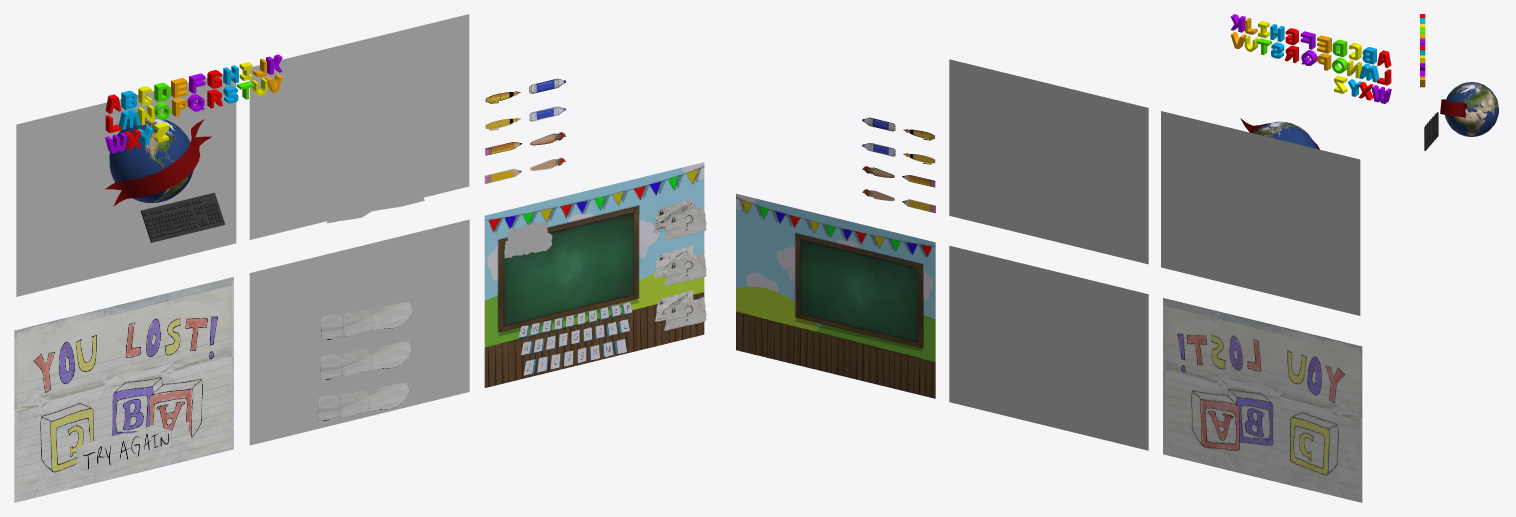
File: Game_Jam_3DAssests.fbx
3 views of the same model, side by side, from view 1: azimuth 30°, elevation 25°; view 2: azimuth 150°, elevation 25°; view 3: azimuth 270°, elevation 25° (orthographic). The views are drawn at different scales.
Visible parts, largest first — view 1: pPlane61, pPlane63, pPlane62, pPlane64, pPlane60, pPlane68, pPlane65, pSphere1, pCube196, pPlane76, polySurface4, polySurface10 (+6 smaller); view 2: pPlane61, pPlane60, pPlane62, pPlane63, pPlane64, pSphere1; view 3: pSphere1, pCube196, pPlane76.
Part boxes in pixels (<box>): pPlane61: <box>249,14,469,239</box>; pPlane63: <box>14,277,233,502</box>; pPlane62: <box>249,219,469,445</box>; pPlane64: <box>484,162,704,387</box>; pPlane60: <box>16,74,236,296</box>; pPlane68: <box>73,421,192,476</box>; pPlane65: <box>518,302,632,375</box>; pSphere1: <box>109,117,193,202</box>; pCube196: <box>140,192,224,242</box>; pPlane76: <box>105,119,211,206</box>; polySurface4: <box>321,302,412,340</box>; polySurface10: <box>317,383,409,420</box>; pPlane61: <box>949,59,1148,264</box>; pPlane60: <box>1161,111,1360,315</box>; pPlane62: <box>949,245,1148,450</box>; pPlane63: <box>1163,298,1362,502</box>; pPlane64: <box>736,193,935,398</box>; pSphere1: <box>1253,121,1316,148</box>; pSphere1: <box>1445,82,1498,136</box>; pCube196: <box>1424,112,1438,150</box>; pPlane76: <box>1440,99,1466,117</box>.
Bounding box in the file's own units: 50.24 × 30.81 × 8.04.
